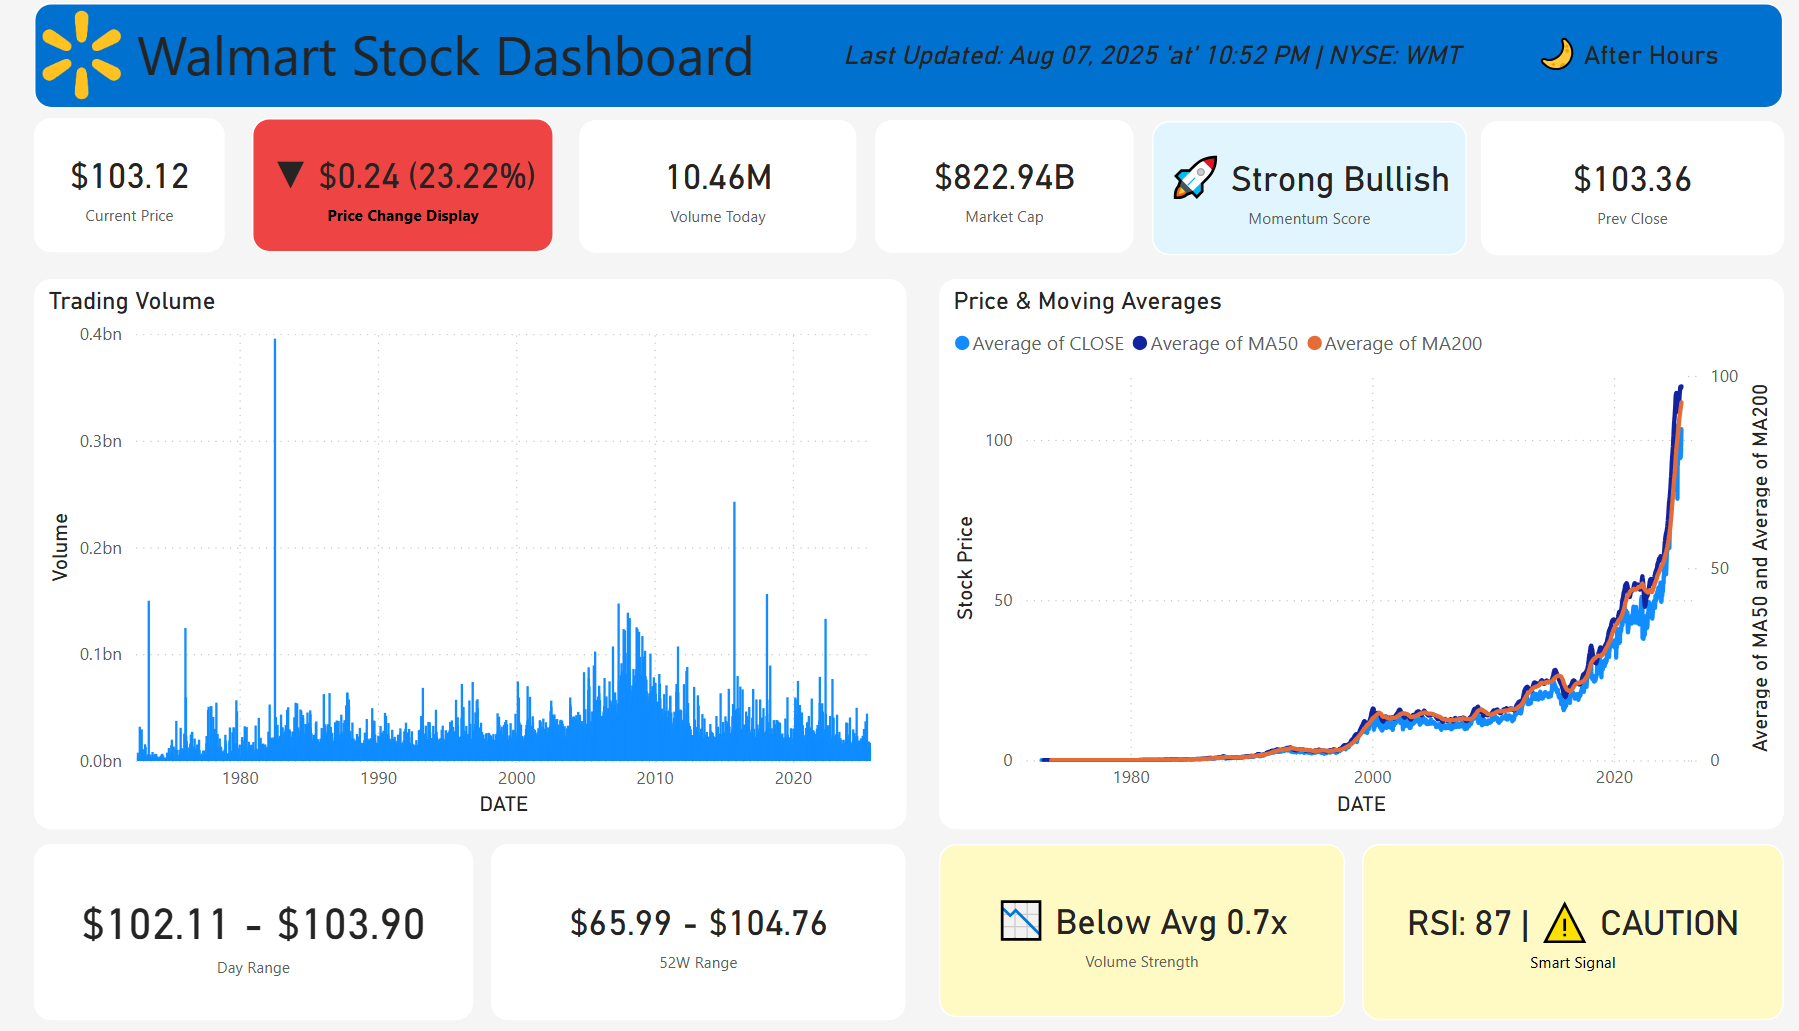

Layout of this report page (visuals, bound fields, positions):
{"tool":"powerbi","page":{"name":" Page 1","canvas":[1280,720],"ordinal":0},"visuals":[{"type":"textbox","box":[26.3,6.2,1211.5,73.4],"z":0},{"type":"card","fields":{"Values":["WALMART_STOCK_DATA.Current Price"]},"box":[26.3,85.8,132.2,92.8],"z":1000},{"type":"card","fields":{"Values":["WALMART_STOCK_DATA.Market Status Display"]},"box":[1028,24.9,203.5,49.8],"z":2000},{"type":"card","fields":{"Values":["WALMART_STOCK_DATA.Price Change Display"]},"box":[177.2,85.8,209.1,92.8],"z":3000},{"type":"card","fields":{"Values":["WALMART_STOCK_DATA.Volume Today"]},"box":[403.6,87.2,192.4,92.1],"z":4000},{"type":"card","fields":{"Values":["WALMART_STOCK_DATA.Market Cap"]},"box":[608.5,87.2,179.3,92.1],"z":5000},{"type":"lineChart","title":"Price & Moving Averages","fields":{"Category":["WALMART_STOCK_DATA.DATE"],"Y":["Avg(WALMART_STOCK_DATA.CLOSE)"],"Y2":["Avg(WALMART_STOCK_DATA.MA50)","Avg(WALMART_STOCK_DATA.MA200)"]},"box":[652.8,197.3,585,381.4],"z":6000},{"type":"clusteredColumnChart","title":"Trading Volume","fields":{"Y":["Avg(WALMART_STOCK_DATA.VOLUME)"],"Category":["WALMART_STOCK_DATA.DATE"]},"box":[26.3,197.3,603.7,381.4],"z":7000},{"type":"card","fields":{"Values":["WALMART_STOCK_DATA.Day Range"]},"box":[26.3,588.4,303.9,121.8],"z":8000},{"type":"card","fields":{"Values":["WALMART_STOCK_DATA.52W Range"]},"box":[342.7,588.4,287.3,121.8],"z":9000},{"type":"card","fields":{"Values":["WALMART_STOCK_DATA.Prev Close"]},"box":[1028,87.9,209.8,93.5],"z":10000},{"type":"card","fields":{"Values":["WALMART_STOCK_DATA.Smart Signal"]},"box":[945.6,588.4,292.1,121.8],"z":11000},{"type":"card","fields":{"Values":["WALMART_STOCK_DATA.Momentum Score"]},"box":[800.3,87.9,218.1,93.5],"z":12000},{"type":"image","box":[20.8,6.2,76.8,72],"z":13000},{"type":"card","fields":{"Values":["WALMART_STOCK_DATA.Volume Strength"]},"box":[652.8,588.4,281.1,120.5],"z":14000},{"type":"card","fields":{"Values":["WALMART_STOCK_DATA.Dashboard Subtitle"]},"box":[561.4,28.4,477.7,42.9],"z":15000}]}

Visuals, with their boxes in screenshot pixels (x1, y1, x2, y2), scaled from the page's 1280x720 canvas onto the 1799x1031 screenshot:
textbox: region(37, 9, 1740, 114)
card - WALMART_STOCK_DATA.Current Price: region(37, 123, 223, 256)
card - WALMART_STOCK_DATA.Market Status Display: region(1445, 36, 1731, 107)
card - WALMART_STOCK_DATA.Price Change Display: region(249, 123, 543, 256)
card - WALMART_STOCK_DATA.Volume Today: region(567, 125, 838, 257)
card - WALMART_STOCK_DATA.Market Cap: region(855, 125, 1107, 257)
"Price & Moving Averages" lineChart: region(917, 283, 1740, 829)
"Trading Volume" clusteredColumnChart: region(37, 283, 885, 829)
card - WALMART_STOCK_DATA.Day Range: region(37, 843, 464, 1017)
card - WALMART_STOCK_DATA.52W Range: region(482, 843, 885, 1017)
card - WALMART_STOCK_DATA.Prev Close: region(1445, 126, 1740, 260)
card - WALMART_STOCK_DATA.Smart Signal: region(1329, 843, 1740, 1017)
card - WALMART_STOCK_DATA.Momentum Score: region(1125, 126, 1431, 260)
image: region(29, 9, 137, 112)
card - WALMART_STOCK_DATA.Volume Strength: region(917, 843, 1313, 1015)
card - WALMART_STOCK_DATA.Dashboard Subtitle: region(789, 41, 1460, 102)
